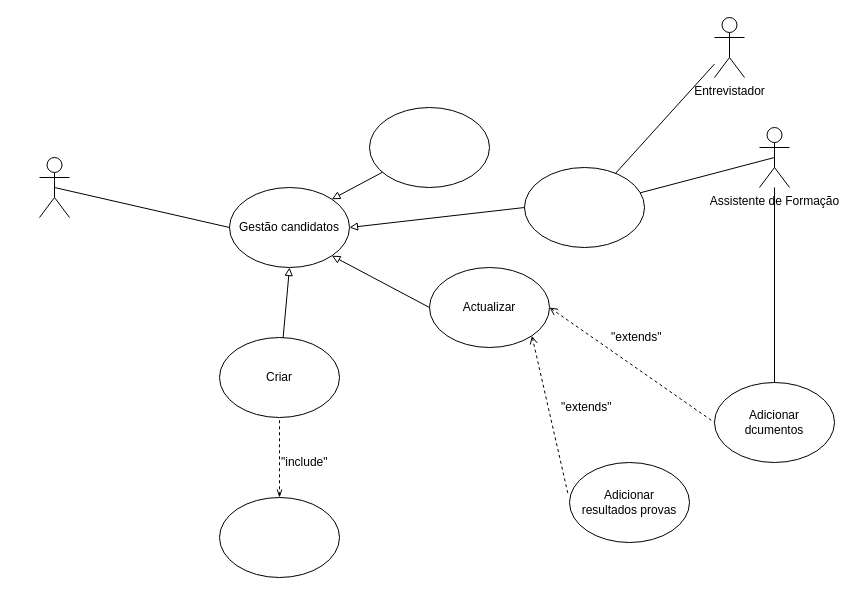
Image size: 856x595. Some labels were removed from this diagram. Each missing label, with the centre of its shape:
Administrador: point 54,187
Arquivar: point 429,147
Consultar: point 584,207
Registar dados do email: point 279,537
